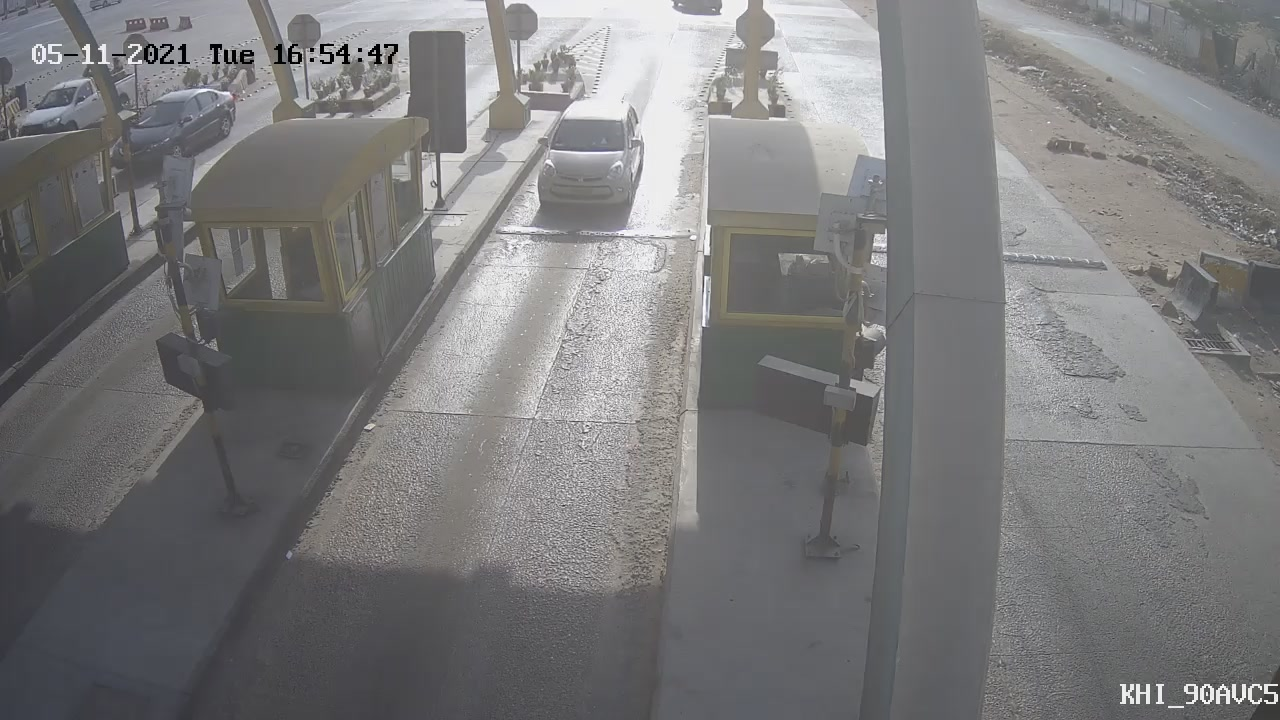F1: (513, 82, 663, 238)
